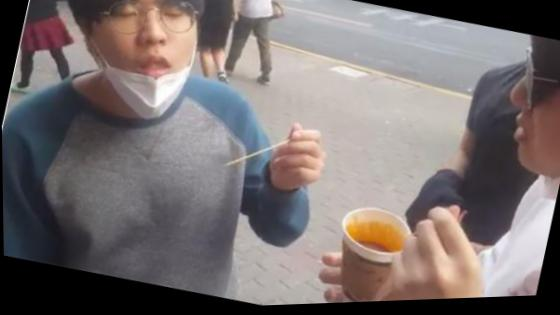WRONG: (71, 1, 211, 126), (488, 47, 560, 198)
